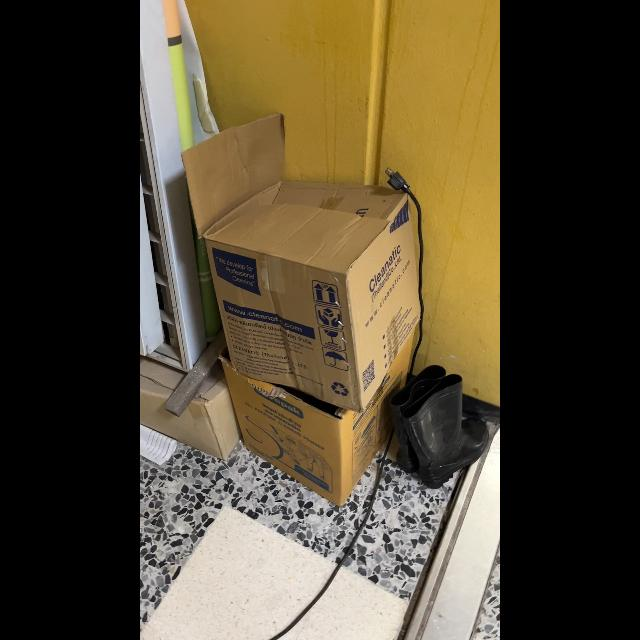cardboard_box: (179, 112, 419, 404), (230, 342, 418, 503)
